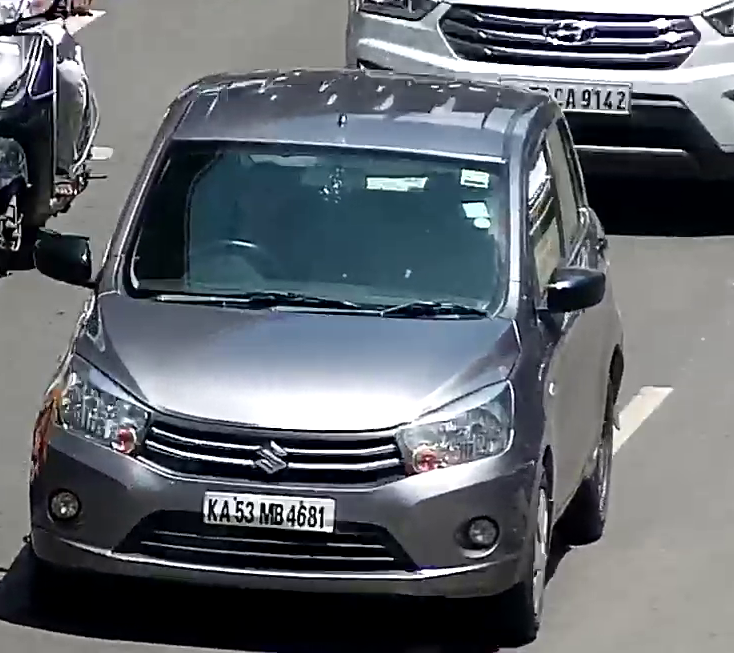1: (317, 505, 326, 529)
3: (244, 501, 255, 524)
4: (286, 504, 297, 527)
5: (234, 500, 244, 523)
6: (297, 504, 306, 527)
8: (307, 505, 317, 528)
A: (219, 499, 231, 523)
B: (274, 502, 284, 526)
K: (206, 498, 218, 522)
M: (258, 502, 273, 526)
P7: (199, 488, 337, 535)
